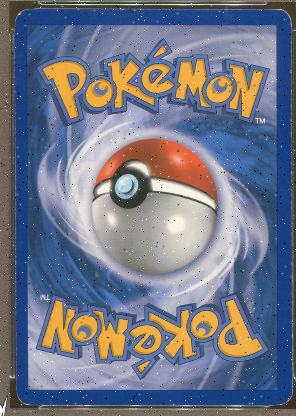Card: (10, 5, 294, 407)
Corner Wear: (14, 386, 33, 406), (275, 384, 292, 405), (13, 7, 22, 23)
Edge Wear: (285, 62, 293, 282), (14, 222, 17, 366), (14, 51, 17, 173), (289, 286, 292, 370), (100, 7, 130, 10)
Scratch: (276, 144, 291, 160), (278, 162, 285, 180), (193, 393, 208, 399), (274, 117, 285, 123), (284, 186, 288, 192)
